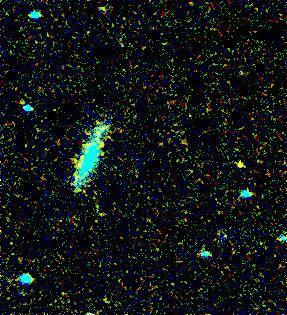star: (226, 148, 256, 178)
